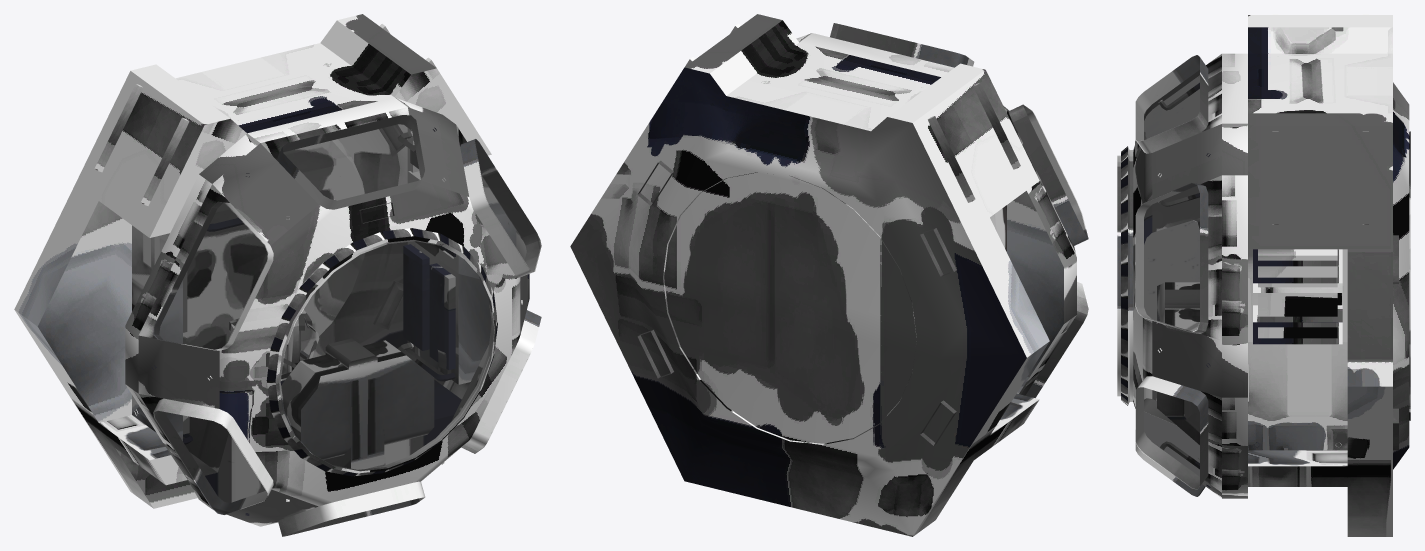
3 renders of one model, left to right at view 1: azimuth 30°, elevation 25°; view 2: azimuth 150°, elevation 25°; view 3: azimuth 270°, elevation 25°, orthographic. The views are drawn at different scales.
Parts seen in each view (by area): view 1: obj_internal_0, obj_windows_0, Seat002_0, obj_pipes_0; view 2: obj_internal_0, obj_windows_0; view 3: obj_internal_0, obj_windows_0, obj_pipes_0.
Part boxes in pixels (x1,y1,x2,y2): obj_internal_0: [14, 14, 541, 536]; obj_windows_0: [154, 115, 540, 536]; Seat002_0: [229, 309, 319, 384]; obj_pipes_0: [134, 127, 528, 515]; obj_internal_0: [570, 14, 1088, 536]; obj_windows_0: [1023, 105, 1086, 236]; obj_internal_0: [1117, 14, 1410, 536]; obj_windows_0: [1135, 55, 1199, 488]; obj_pipes_0: [1158, 83, 1341, 487].
Bounding box in the file's own units: 1.95 × 1.69 × 1.09.
Materials: 3 (3 with a texture image).
